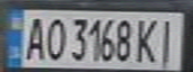1: (84, 15, 103, 62)
3: (66, 15, 87, 62)
6: (100, 16, 118, 62)
8: (115, 16, 136, 63)
A: (21, 14, 48, 62)
I: (154, 16, 184, 64)
K: (133, 16, 163, 64)
O: (42, 15, 69, 62)
